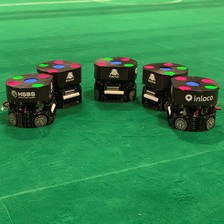robot: (2, 72, 57, 130), (164, 74, 218, 133), (91, 52, 140, 105), (51, 57, 85, 110), (138, 58, 170, 113)
